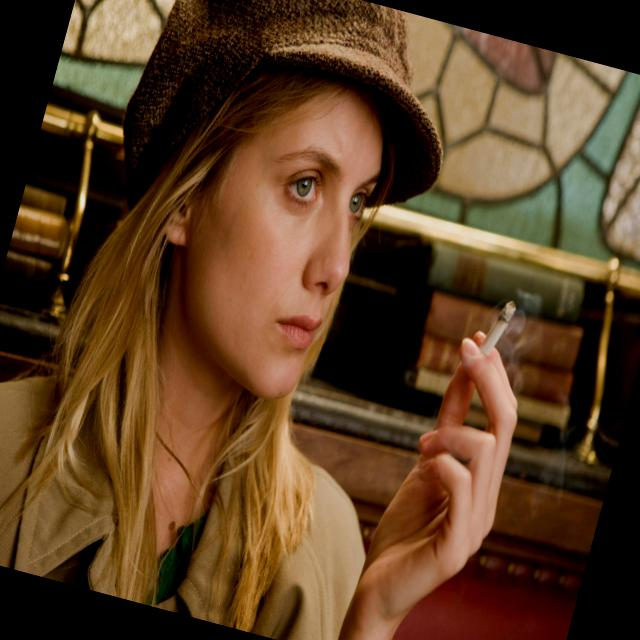cigarette: (452, 262, 540, 384)
